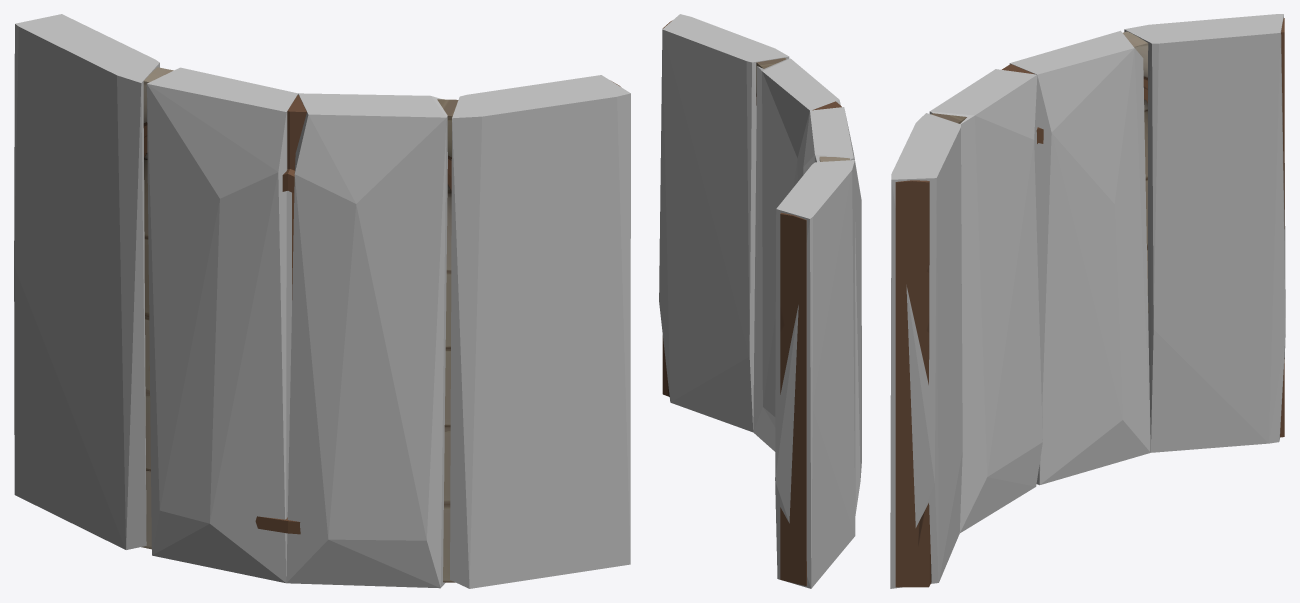
Rendered from SM_Bld_Wall_Curved_Window_01.fbx.
3 views of the same model, side by side, from view 1: azimuth 30°, elevation 25°; view 2: azimuth 150°, elevation 25°; view 3: azimuth 270°, elevation 25° (orthographic). The views are drawn at different scales.
Visible parts, largest first — view 1: SM_Bld_Wall_Curved_Window_01_ConvexHulls, SM_Bld_Wall_Curved_Window_01; view 2: SM_Bld_Wall_Curved_Window_01_ConvexHulls, SM_Bld_Wall_Curved_Window_01; view 3: SM_Bld_Wall_Curved_Window_01_ConvexHulls, SM_Bld_Wall_Curved_Window_01.
Part boxes in pixels (box(x1,y1,x2,y2)): SM_Bld_Wall_Curved_Window_01_ConvexHulls: box(14, 14, 630, 588); SM_Bld_Wall_Curved_Window_01: box(141, 67, 620, 582); SM_Bld_Wall_Curved_Window_01_ConvexHulls: box(659, 14, 861, 588); SM_Bld_Wall_Curved_Window_01: box(662, 20, 849, 586); SM_Bld_Wall_Curved_Window_01_ConvexHulls: box(890, 14, 1285, 588); SM_Bld_Wall_Curved_Window_01: box(895, 18, 1284, 587).
Size of the model in its own units: 266 by 266 by 304.
Materials: 3 (2 with a texture image).
